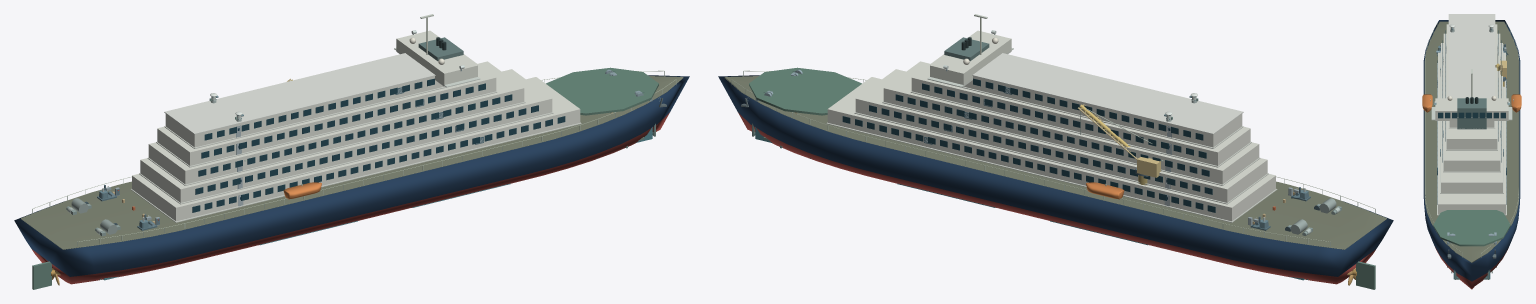
The model's file is octopus.lod0.glb.
3 views of the same model, side by side, from view 1: azimuth 30°, elevation 25°; view 2: azimuth 150°, elevation 25°; view 3: azimuth 270°, elevation 25° (orthographic). The views are drawn at different scales.
Visible parts, largest first — view 1: octopus.structure.hull.outer-hull-shell.1, octopus.structure.decks.main-strength-deck.1, octopus.accommodation.superstructure.superstructure-weather-, octopus.accommodation.superstructure.deck-1-enclosure.1, octopus.accommodation.superstructure.deck-2-enclosure.1, octopus.accommodation.superstructure.deck-3-enclosure.1, octopus.accommodation.superstructure.deck-4-enclosure.1, octopus.structure.hull.antifouling-underwater-shell.1, octopus.cargo.aviation.helicopter-landing-deck.1, octopus.accommodation.superstructure.deck-5-enclosure.1, octopus.navigation.bridge.wheelhouse.1, octopus.accommodation.superstructure.deck-2-floor.1 (+7 smaller); view 2: octopus.structure.hull.outer-hull-shell.1, octopus.structure.decks.main-strength-deck.1, octopus.accommodation.superstructure.superstructure-weather-, octopus.accommodation.superstructure.deck-1-enclosure.1, octopus.accommodation.superstructure.deck-2-enclosure.1, octopus.accommodation.superstructure.deck-3-enclosure.1, octopus.accommodation.superstructure.deck-4-enclosure.1, octopus.structure.hull.antifouling-underwater-shell.1, octopus.cargo.aviation.helicopter-landing-deck.1, octopus.accommodation.superstructure.deck-5-enclosure.1, octopus.navigation.bridge.wheelhouse.1, octopus.accommodation.superstructure.deck-2-floor.1 (+7 smaller); view 3: octopus.structure.decks.main-strength-deck.1, octopus.accommodation.superstructure.superstructure-weather-, octopus.structure.hull.outer-hull-shell.1, octopus.cargo.aviation.helicopter-landing-deck.1, octopus.accommodation.superstructure.deck-3-enclosure.1, octopus.accommodation.superstructure.deck-2-enclosure.1, octopus.accommodation.superstructure.deck-4-enclosure.1, octopus.accommodation.superstructure.deck-1-enclosure.1, octopus.navigation.bridge.wheelhouse.1, octopus.propulsion.exhaust.exhaust-casing.1, octopus.structure.hull.antifouling-underwater-shell.1, octopus.accommodation.superstructure.deck-3-floor.1 (+7 smaller).
Boxes of the visible parts, x1,y1,x2,y2 form: octopus.structure.hull.outer-hull-shell.1: (14, 75, 689, 276); octopus.structure.decks.main-strength-deck.1: (21, 76, 683, 249); octopus.accommodation.superstructure.superstructure-weather-: (164, 53, 435, 134); octopus.accommodation.superstructure.deck-1-enclosure.1: (132, 77, 580, 221); octopus.accommodation.superstructure.deck-2-enclosure.1: (140, 69, 552, 202); octopus.accommodation.superstructure.deck-3-enclosure.1: (148, 61, 524, 184); octopus.accommodation.superstructure.deck-4-enclosure.1: (157, 54, 496, 165); octopus.structure.hull.antifouling-underwater-shell.1: (32, 112, 669, 284); octopus.cargo.aviation.helicopter-landing-deck.1: (546, 67, 658, 115); octopus.accommodation.superstructure.deck-5-enclosure.1: (165, 76, 443, 147); octopus.navigation.bridge.wheelhouse.1: (396, 30, 477, 86); octopus.accommodation.superstructure.deck-2-floor.1: (139, 112, 553, 204); octopus.structure.hull.outer-hull-shell.1: (718, 75, 1393, 276); octopus.structure.decks.main-strength-deck.1: (724, 76, 1386, 249); octopus.accommodation.superstructure.superstructure-weather-: (972, 53, 1243, 134); octopus.accommodation.superstructure.deck-1-enclosure.1: (827, 77, 1275, 221); octopus.accommodation.superstructure.deck-2-enclosure.1: (855, 69, 1267, 202); octopus.accommodation.superstructure.deck-3-enclosure.1: (883, 61, 1259, 184); octopus.accommodation.superstructure.deck-4-enclosure.1: (911, 54, 1250, 165); octopus.structure.hull.antifouling-underwater-shell.1: (738, 112, 1375, 284); octopus.cargo.aviation.helicopter-landing-deck.1: (749, 67, 861, 115); octopus.accommodation.superstructure.deck-5-enclosure.1: (964, 76, 1242, 147); octopus.navigation.bridge.wheelhouse.1: (930, 30, 1011, 86); octopus.accommodation.superstructure.deck-2-floor.1: (854, 112, 1268, 204); octopus.structure.decks.main-strength-deck.1: (1424, 21, 1519, 262); octopus.accommodation.superstructure.superstructure-weather-: (1448, 14, 1495, 117); octopus.structure.hull.outer-hull-shell.1: (1423, 20, 1520, 281); octopus.cargo.aviation.helicopter-landing-deck.1: (1433, 210, 1510, 246); octopus.accommodation.superstructure.deck-3-enclosure.1: (1443, 33, 1500, 171); octopus.accommodation.superstructure.deck-2-enclosure.1: (1441, 43, 1502, 192); octopus.accommodation.superstructure.deck-4-enclosure.1: (1446, 24, 1497, 149); octopus.accommodation.superstructure.deck-1-enclosure.1: (1438, 52, 1505, 214); octopus.navigation.bridge.wheelhouse.1: (1435, 98, 1508, 120); octopus.propulsion.exhaust.exhaust-casing.1: (1457, 98, 1486, 129); octopus.structure.hull.antifouling-underwater-shell.1: (1435, 247, 1508, 289); octopus.accommodation.superstructure.deck-3-floor.1: (1443, 44, 1500, 172).
Bounding box in the file's own units: 127 × 32.64 × 21.52.
